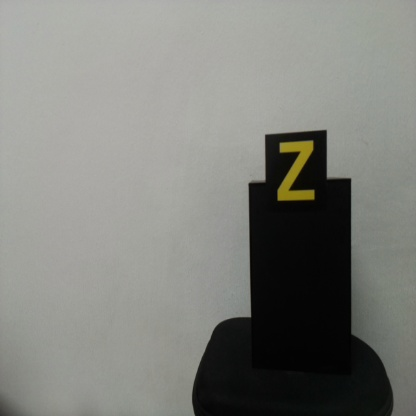id_15: (266, 134, 327, 209)
